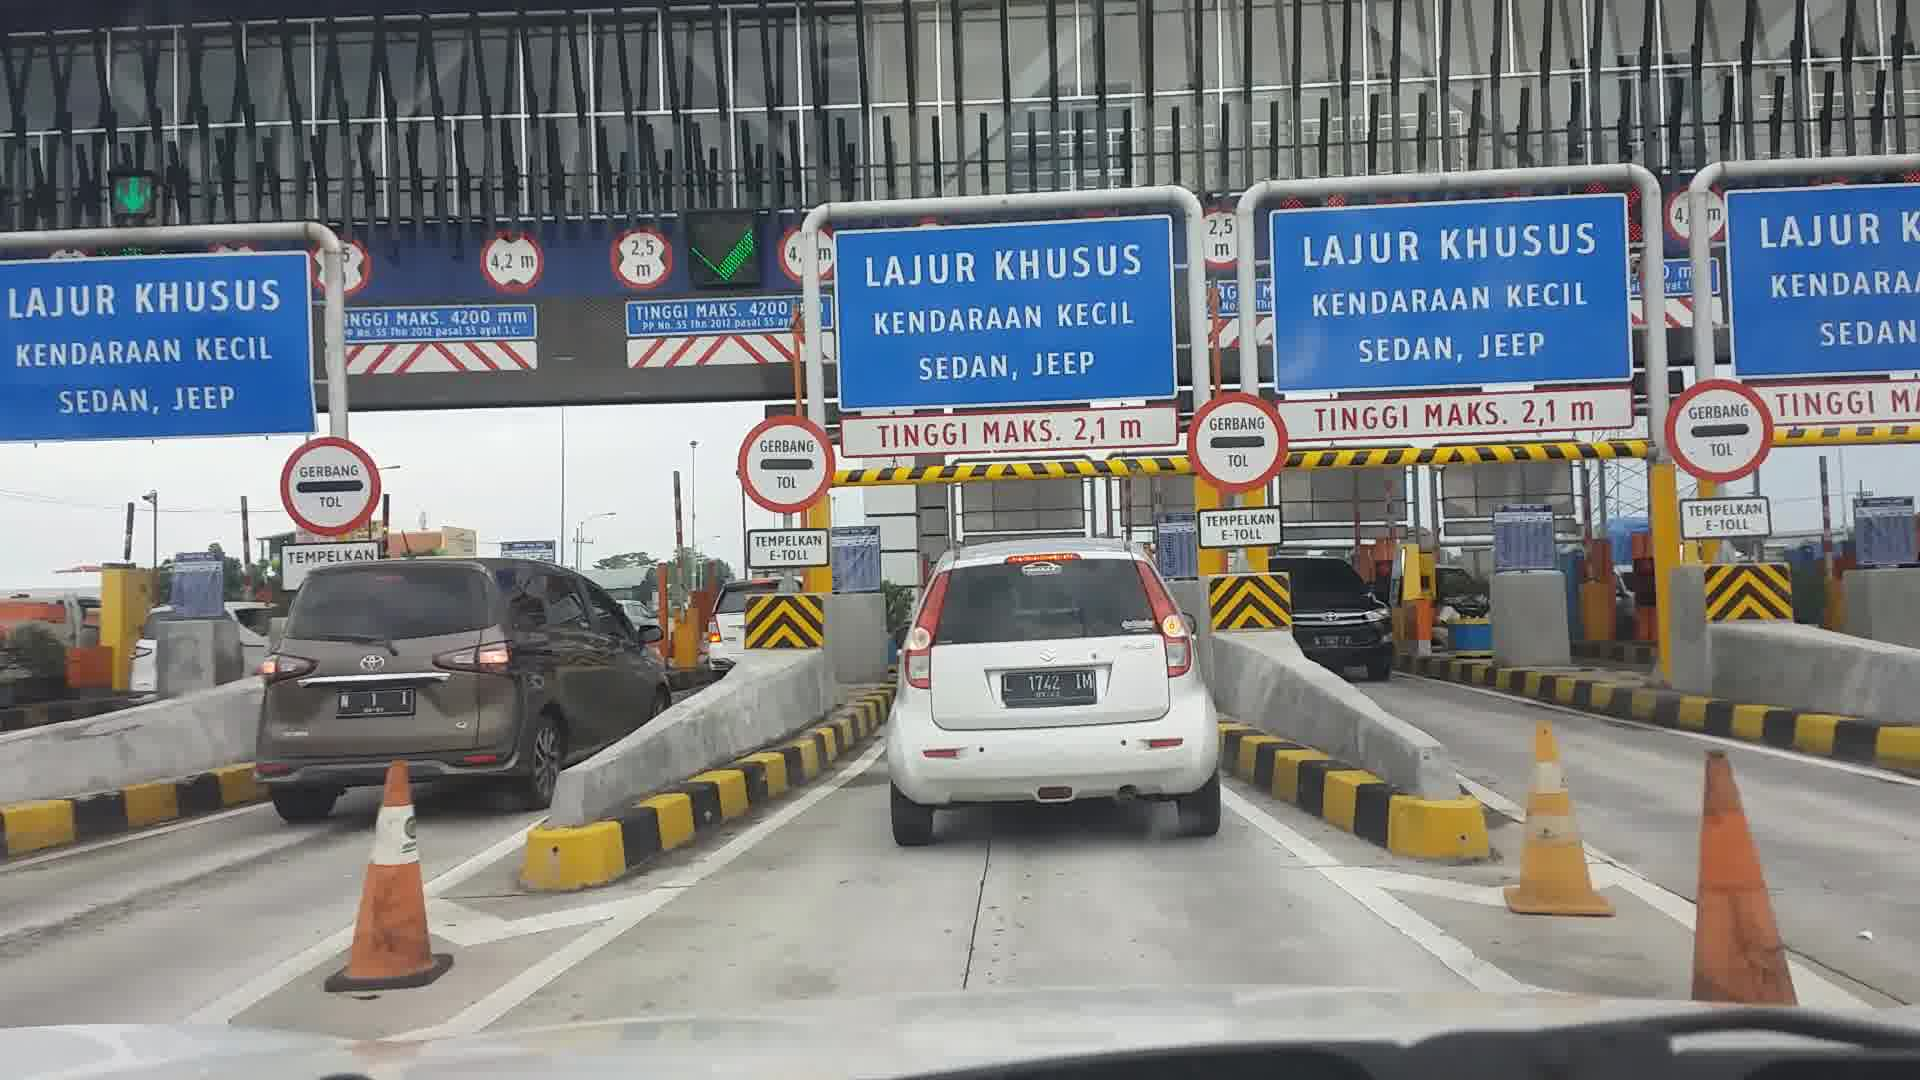plate_positive: (1001, 671, 1095, 705), (336, 688, 415, 717)
